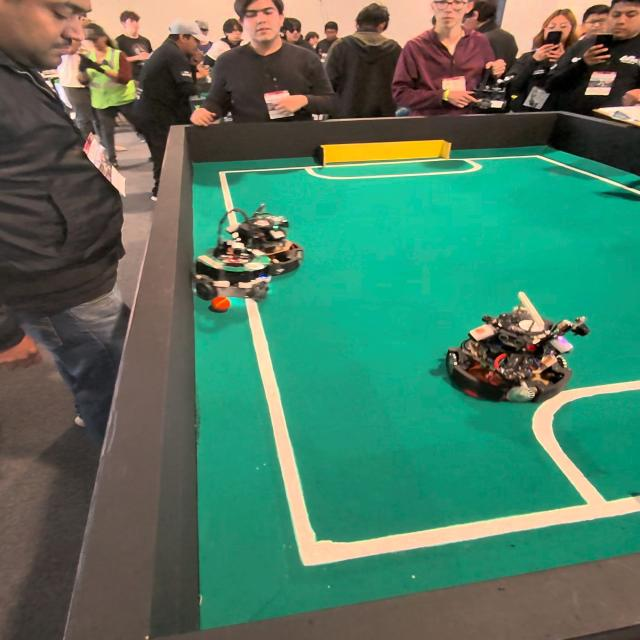Robot: (438, 293, 586, 418), (181, 215, 278, 300), (232, 210, 320, 276)
pelota: (209, 296, 231, 312)
